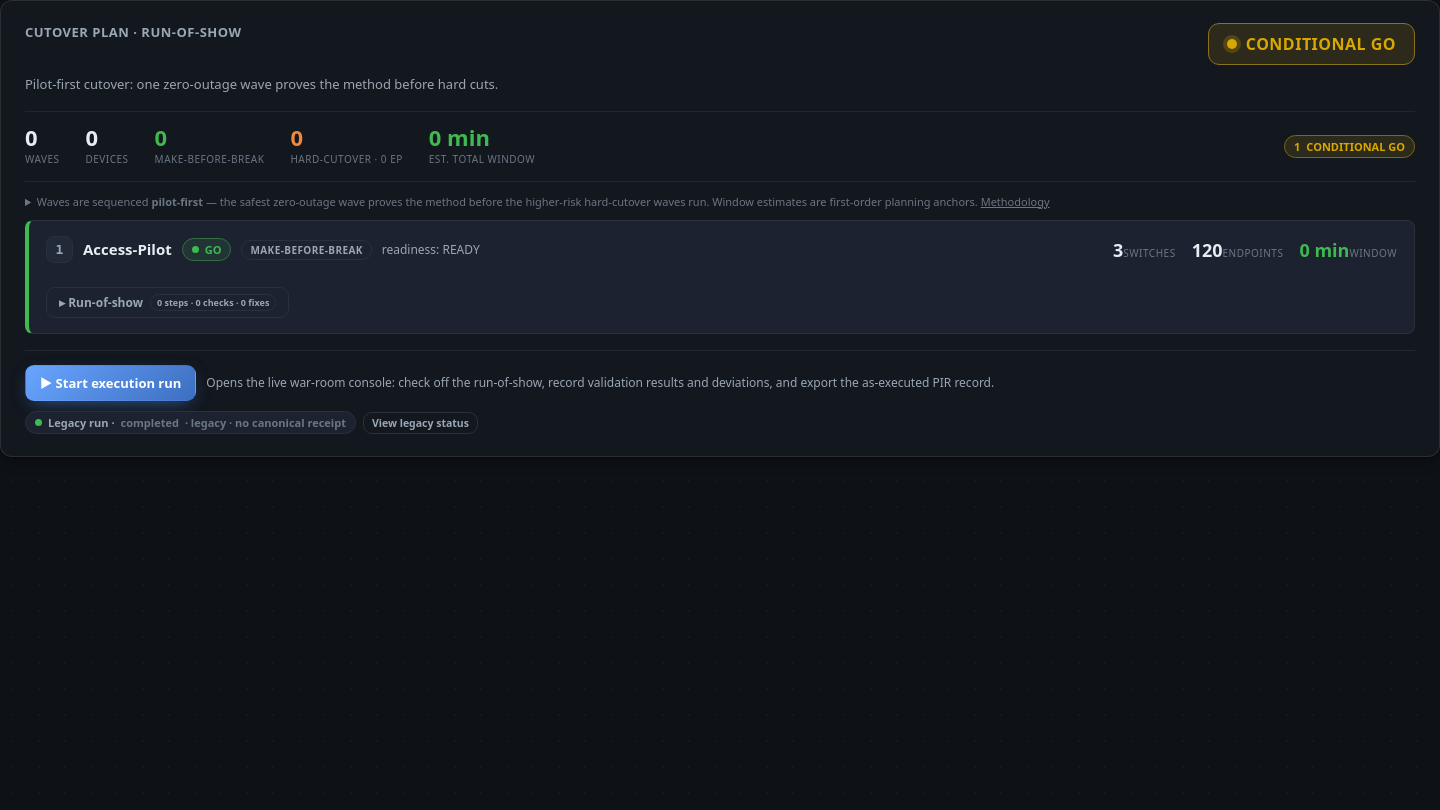
Test: CutoverPlanner (render) › keeps a legacy planner execution read-only with no comparison backfill control
What coordinates should you click on to do the following:
click the button with aria-label "Open post-change evidence for Legacy run"
I would click on:
 (420, 422)
Its box is [363,412,478,434].
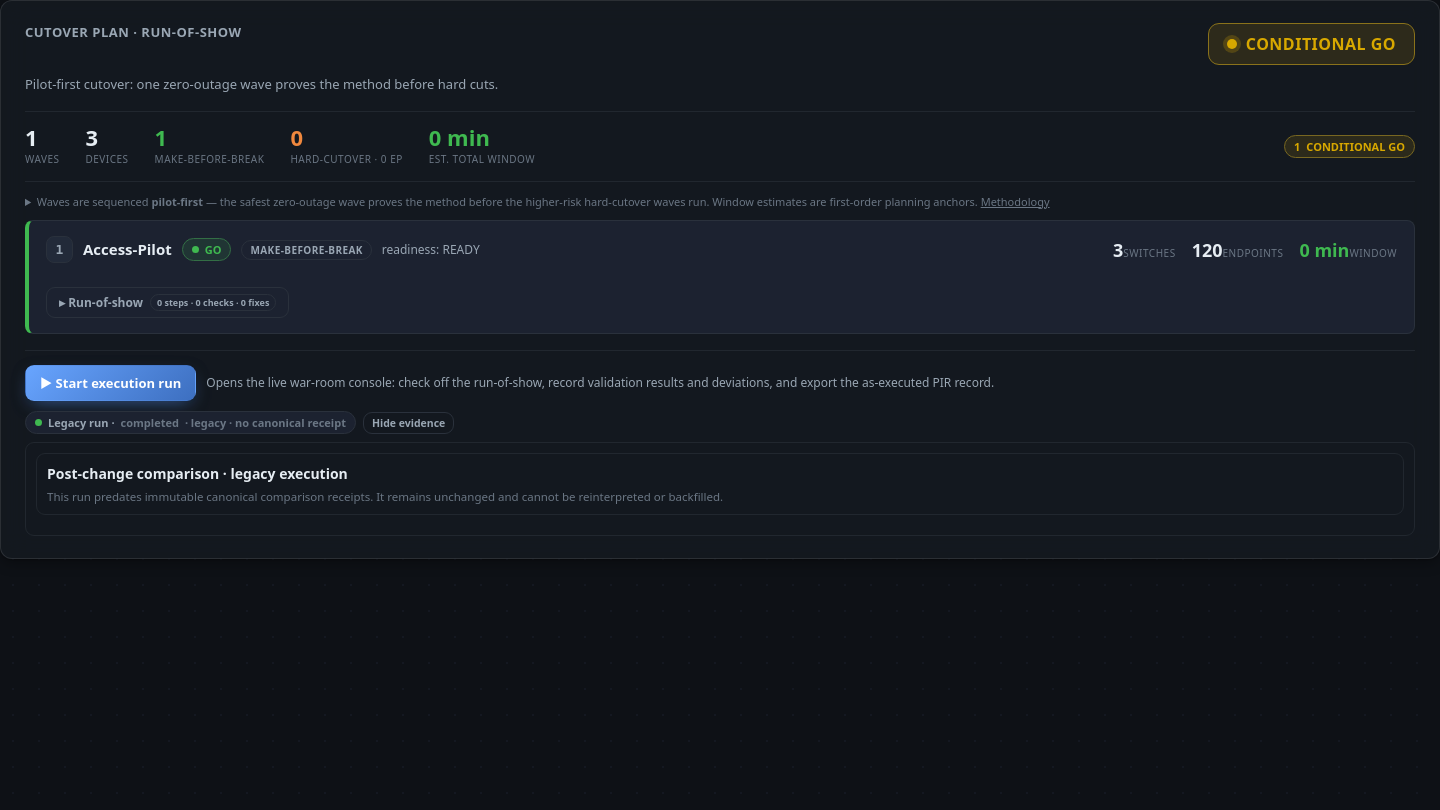
Expected: the element with test id "cutover-execution-legacy-43" shows "cannot be reinterpreted or backfilled", [47,489,723,504]
